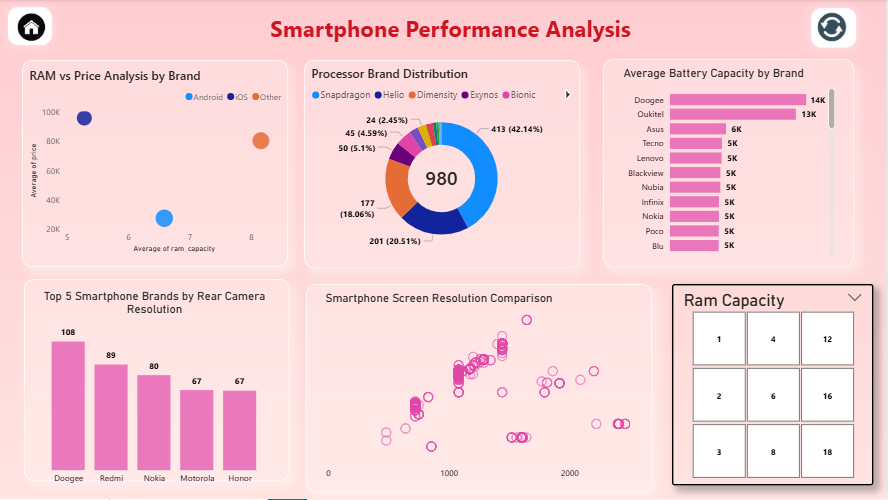

What the dashboard file says about the page in this screenshot:
{"tool":"powerbi","page":{"name":"Performance Analysis","canvas":[1280,720],"ordinal":1},"visuals":[{"type":"shape","box":[15,11.7,63.3,55],"z":0},{"type":"image","box":[11.7,0,73.3,81.7],"z":1000},{"type":"textbox","box":[149.8,14.4,1003.7,60.5],"z":2000},{"type":"shape","box":[34.6,87.8,383,298.1],"z":3000},{"type":"shape","box":[37.4,403.2,381.6,290.9],"z":4000},{"type":"shape","box":[871.2,86.4,361.4,299.5],"z":5000},{"type":"shape","box":[440.6,87.8,397.4,299.5],"z":6000},{"type":"donutChart","title":"Processor Brand Distribution","fields":{"Category":["smartphones.processor_brand"],"Y":["CountNonNull(smartphones.model)"]},"box":[446.4,95,384.5,275],"z":7000},{"type":"card","fields":{"Values":["CountNonNull(smartphones.brand_name)"]},"box":[568.8,233.3,139.7,49],"z":8000},{"type":"scatterChart","title":"RAM vs Price Analysis by Brand","fields":{"X":["Avg(smartphones.ram_capacity)"],"Y":["Avg(smartphones.price)"],"Size":["Avg(smartphones.battery_capacity)"],"Series":["smartphones.os"]},"box":[40.3,97.9,377.3,272.2],"z":9000},{"type":"clusteredBarChart","title":"Average Battery Capacity by Brand","fields":{"Category":["smartphones.brand_name"],"Y":["smartphones.Average Battery"]},"box":[895.7,96.5,313.9,280.8],"z":10000},{"type":"columnChart","title":"Top 5 Smartphone Brands by Rear Camera Resolution","fields":{"Category":["smartphones.brand_name"],"Y":["Avg(smartphones.primary_camera_rear)"]},"box":[47.5,417.6,355.7,290.9],"z":11000},{"type":"shape","box":[1170,13.3,65,56.7],"z":12000},{"type":"image","box":[1168.3,15,65,51.7],"z":13000},{"type":"shape","box":[443.3,410,498.3,300],"z":14000},{"type":"scatterChart","title":"Smartphone Screen Resolution Comparison","fields":{"X":["Sum(smartphones.resolution_width)"],"Y":["Sum(smartphones.resolution_height)"],"Category":["smartphones.model"]},"box":[466.7,420,461.7,280],"z":15000},{"type":"slicer","fields":{"Values":["smartphones.ram_capacity"]},"box":[970,410,290,290],"z":16000}]}

Visuals, with their boxes in screenshot pixels (x1, y1, x2, y2), scaled from the page's 1280x720 canvas onto the 888x500 screenshot:
shape: [10,8,54,46]
image: [8,0,59,57]
textbox: [104,10,800,52]
shape: [24,61,290,268]
shape: [26,280,291,482]
shape: [604,60,855,268]
shape: [306,61,581,269]
"Processor Brand Distribution" donutChart: [310,66,576,257]
card - CountNonNull(smartphones.brand_name): [395,162,492,196]
"RAM vs Price Analysis by Brand" scatterChart: [28,68,290,257]
"Average Battery Capacity by Brand" clusteredBarChart: [621,67,839,262]
"Top 5 Smartphone Brands by Rear Camera Resolution" columnChart: [33,290,280,492]
shape: [812,9,857,49]
image: [811,10,856,46]
shape: [308,285,653,493]
"Smartphone Screen Resolution Comparison" scatterChart: [324,292,644,486]
slicer - smartphones.ram_capacity: [673,285,874,486]
